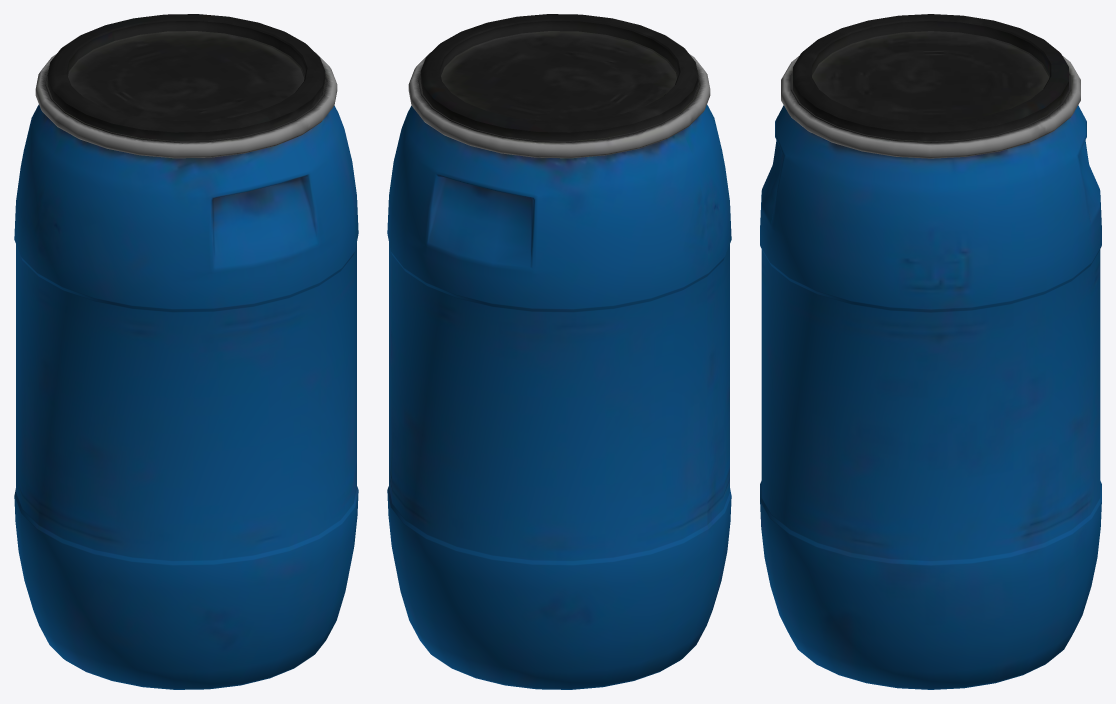
Rendered from PH-Barrel_02.glb.
3 views of the same model, side by side, from view 1: azimuth 30°, elevation 25°; view 2: azimuth 150°, elevation 25°; view 3: azimuth 270°, elevation 25° (orthographic).
Parts seen in each view (by area): view 1: Barrel_02; view 2: Barrel_02; view 3: Barrel_02.
Boxes of the visible parts, bbox=[...] form: Barrel_02: bbox=[14, 14, 358, 689]; Barrel_02: bbox=[387, 14, 731, 689]; Barrel_02: bbox=[760, 14, 1101, 689].
Bounding box in the file's own units: 0.4882 × 0.88 × 0.4846.
1 material, 1 textured.
